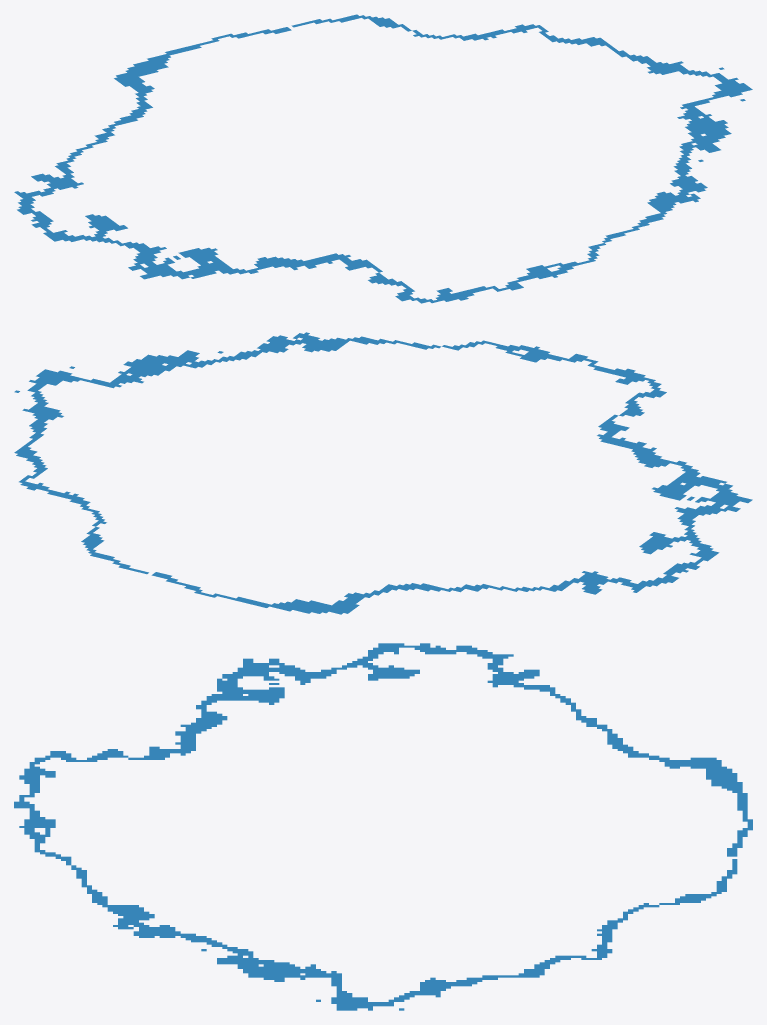
The model's file is Isl-start2-PlaceForWaterObjects.fbx.
3 renders of one model, top to bottom at view 1: azimuth 30°, elevation 25°; view 2: azimuth 150°, elevation 25°; view 3: azimuth 270°, elevation 25°, orthographic. The views are drawn at different scales.
Parts seen in each view (by area): view 1: Isl-start2-PlaceForWaterObjects; view 2: Isl-start2-PlaceForWaterObjects; view 3: Isl-start2-PlaceForWaterObjects.
Boxes of the visible parts, box(x1,y1,x2,y2) form: Isl-start2-PlaceForWaterObjects: box(14, 14, 752, 303); Isl-start2-PlaceForWaterObjects: box(14, 332, 752, 614); Isl-start2-PlaceForWaterObjects: box(14, 643, 752, 1010).
Bounding box in the file's own units: 167 × 0 × 142.
